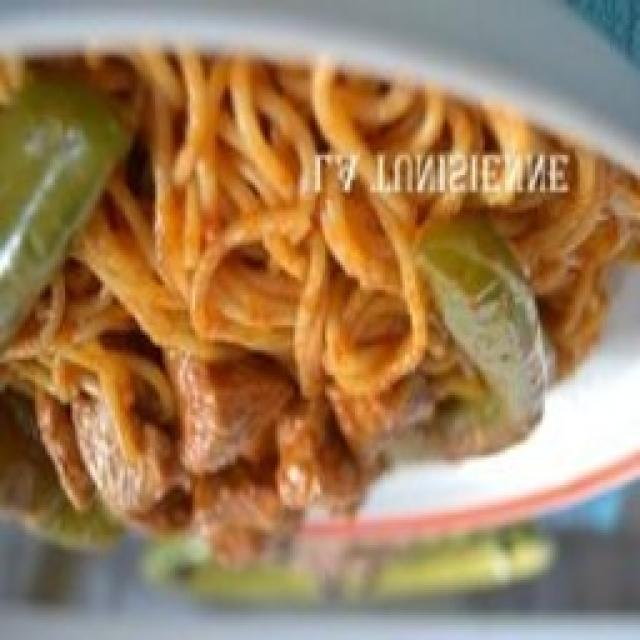Pasta: (0, 40, 640, 560)
